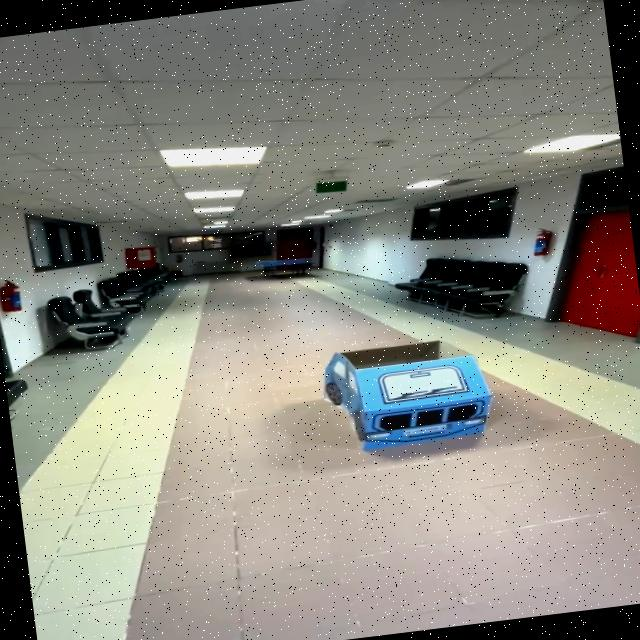blue_car: (306, 316, 541, 479)
